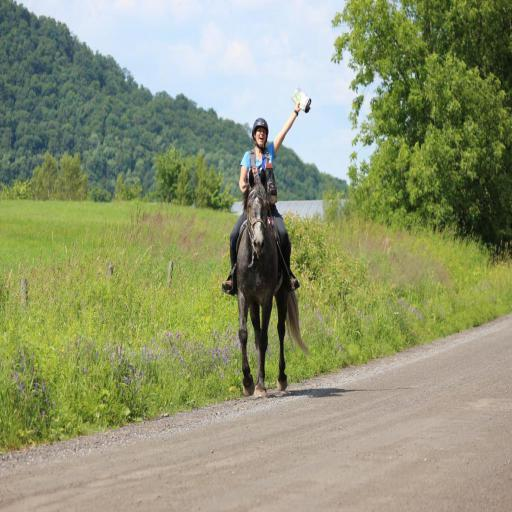horse: (234, 166, 310, 397)
